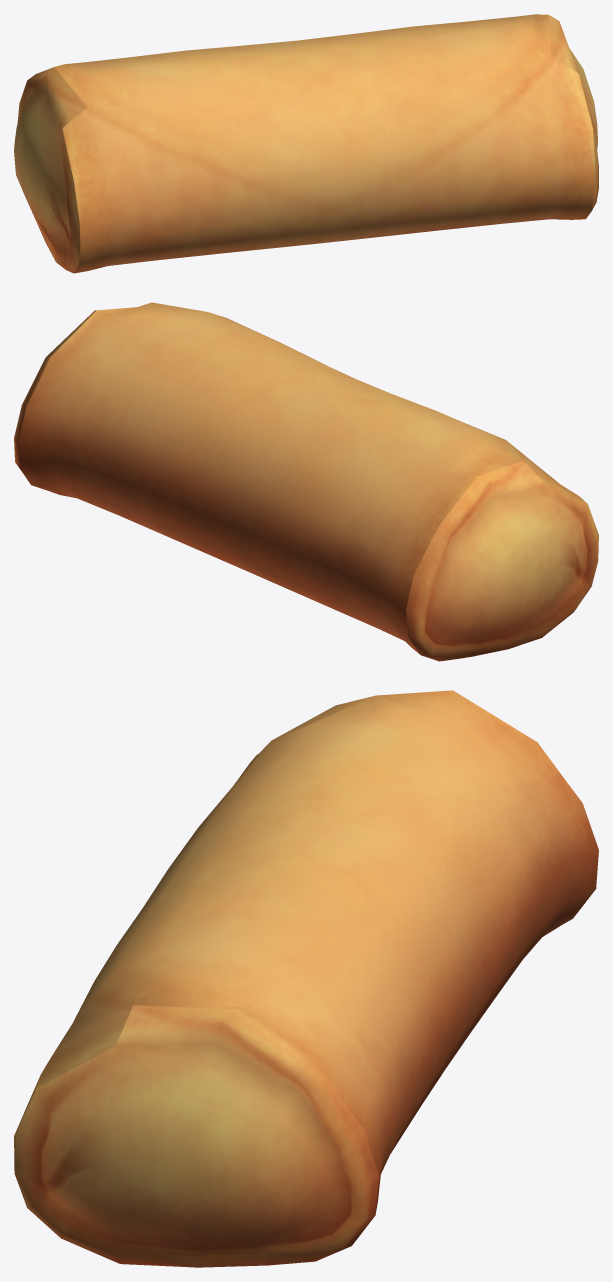
Rendered from Spring Roll.fbx.
3 renders of one model, top to bottom at view 1: azimuth 30°, elevation 25°; view 2: azimuth 150°, elevation 25°; view 3: azimuth 270°, elevation 25°, orthographic. The views are drawn at different scales.
Visible parts, largest first — view 1: SpringRoll_1; view 2: SpringRoll_1; view 3: SpringRoll_1.
Part boxes in pixels (left/top/right/bottom): SpringRoll_1: left=14, top=14, right=598, bottom=273; SpringRoll_1: left=14, top=302, right=598, bottom=661; SpringRoll_1: left=14, top=690, right=598, bottom=1267.
Bounding box in the file's own units: 29.68 × 9.89 × 19.22.
1 material, 1 textured.
